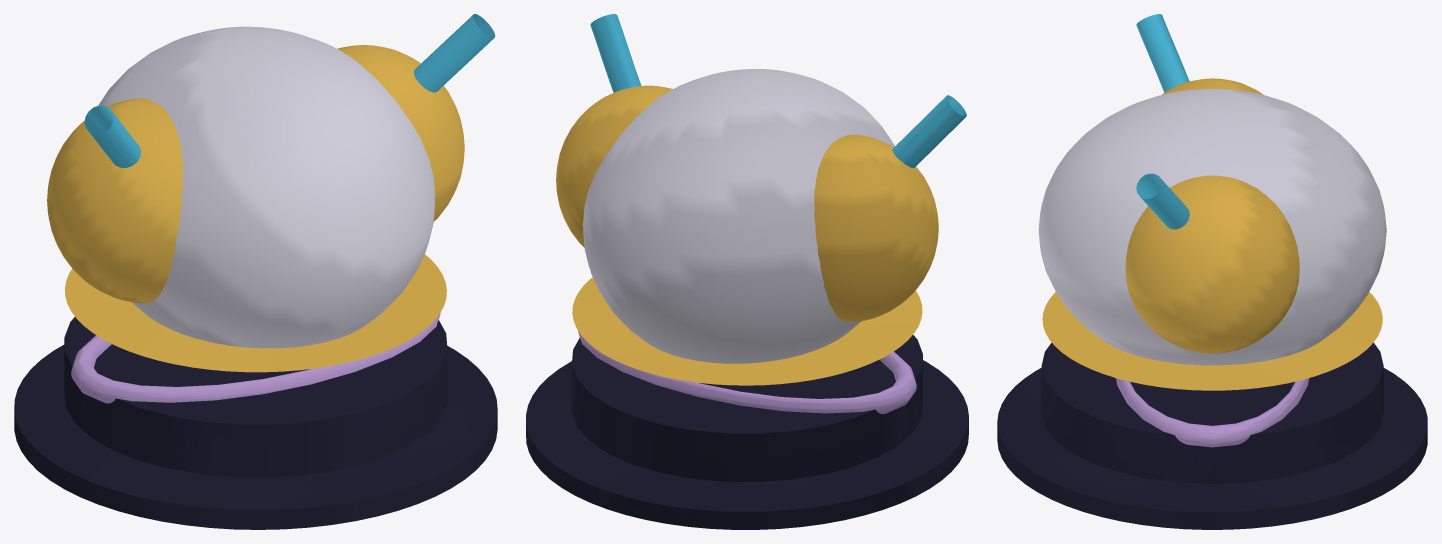
File: 0172_人体图鉴_人体.glb
3 renders of one model, left to right at view 1: azimuth 30°, elevation 25°; view 2: azimuth 150°, elevation 25°; view 3: azimuth 270°, elevation 25°, orthographic. The views are drawn at different scales.
Parts seen in each view (by area): view 1: card_0172; view 2: card_0172; view 3: card_0172.
Part boxes in pixels (<box>): card_0172: <box>14,14,497,529</box>; card_0172: <box>526,14,968,529</box>; card_0172: <box>997,14,1427,529</box>.
Bounding box in the file's own units: 1.12 × 1 × 1.13.
